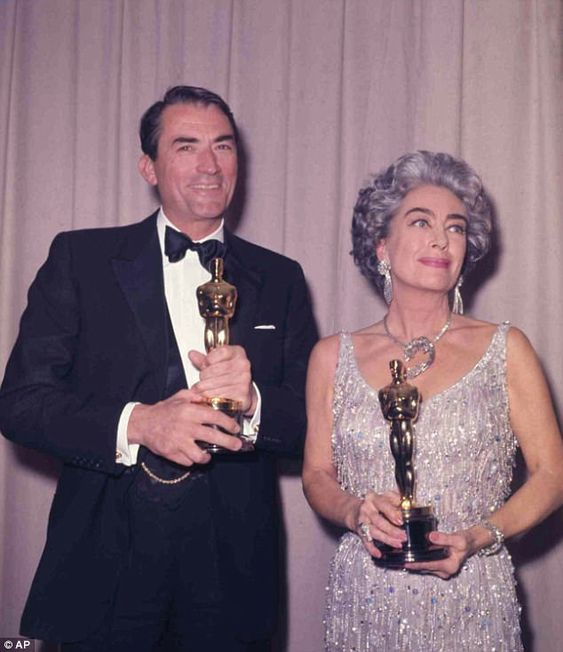hand: (346, 494, 403, 555)
